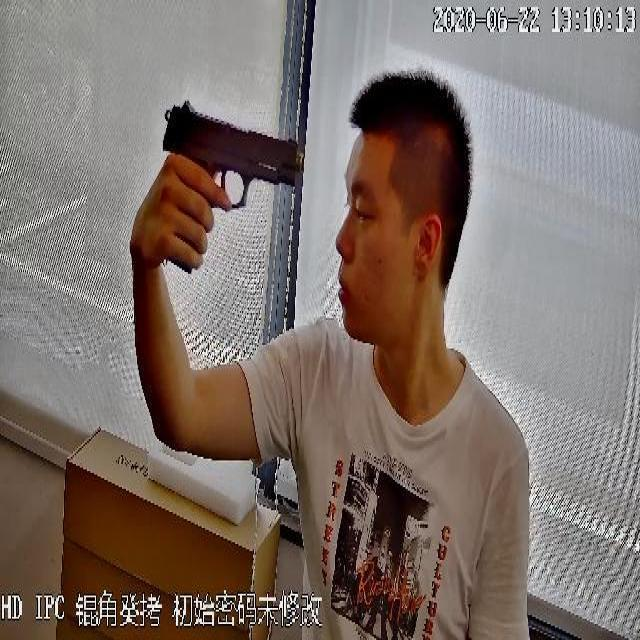pistol: (157, 99, 306, 268)
